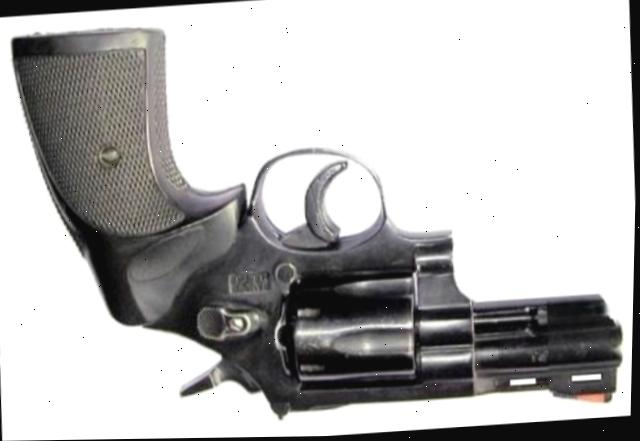pistol: (2, 0, 631, 441)
